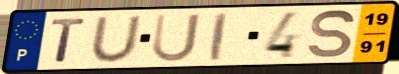4: (259, 10, 302, 60)
I: (208, 11, 229, 63)
S: (306, 8, 358, 60)
T: (49, 17, 88, 64)
U: (88, 14, 144, 64), (150, 12, 203, 64)
